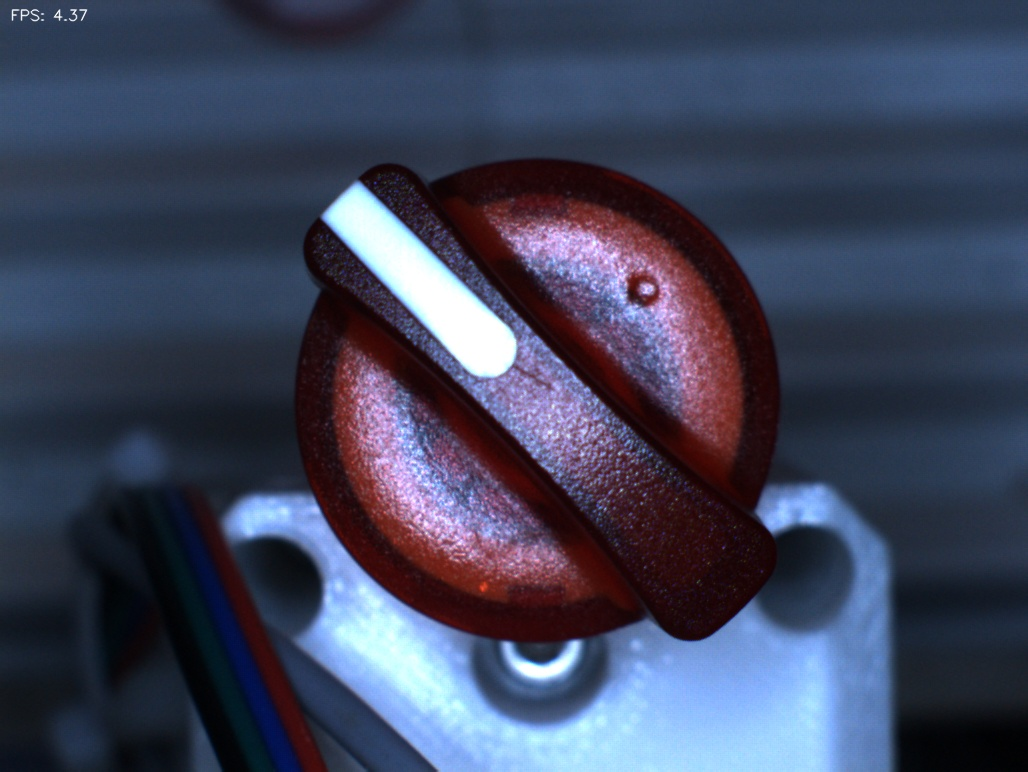Choc: (602, 241, 683, 322)
